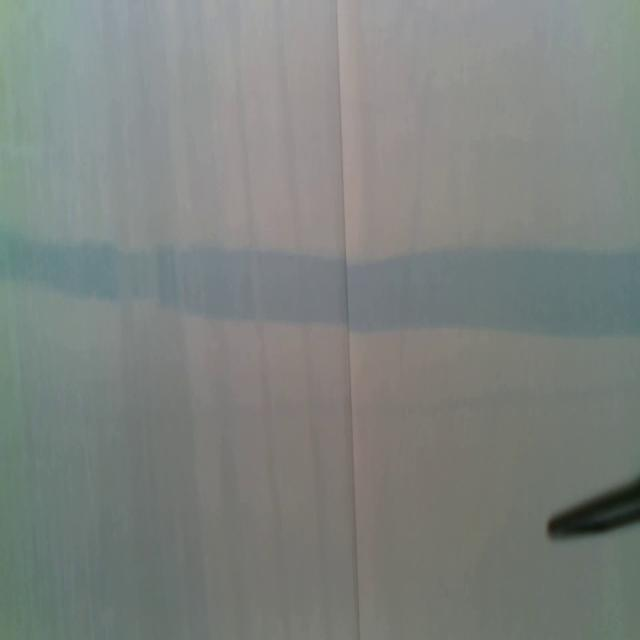color bleeding: (0, 223, 640, 342)
crease: (334, 0, 362, 640)
